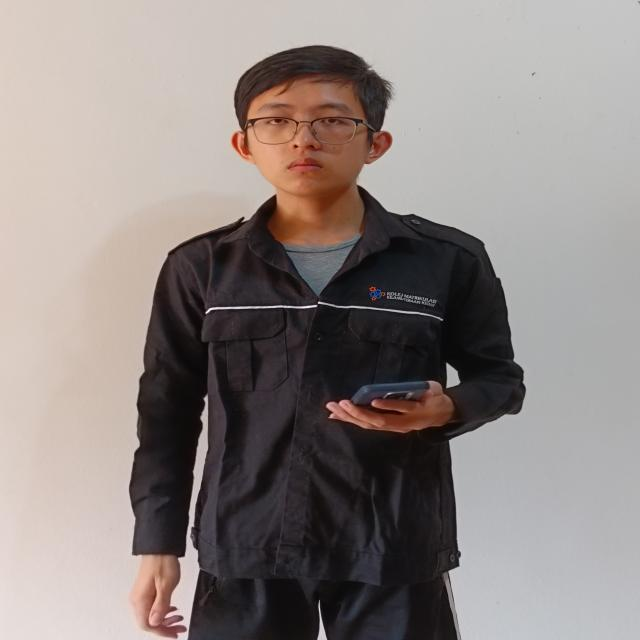person_with_labcoat: (130, 45, 525, 640)
